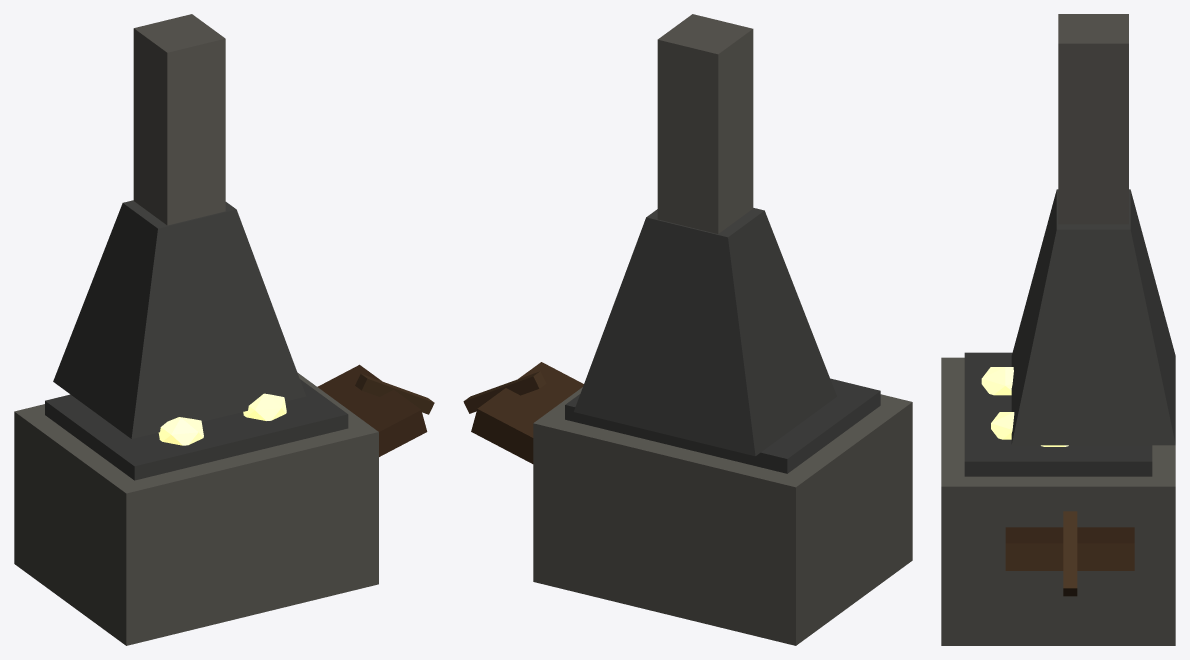
File: forge.glb
3 views of the same model, side by side, from view 1: azimuth 30°, elevation 25°; view 2: azimuth 150°, elevation 25°; view 3: azimuth 270°, elevation 25° (orthographic). The views are drawn at different scales.
Visible parts, largest first — view 1: Forge; view 2: Forge; view 3: Forge.
Boxes of the visible parts, box(x1,y1,x2,y2) form: Forge: box(14, 14, 434, 645); Forge: box(463, 14, 912, 645); Forge: box(941, 14, 1175, 645).
Size of the model in its own units: 1.89 by 2.6 by 1.
